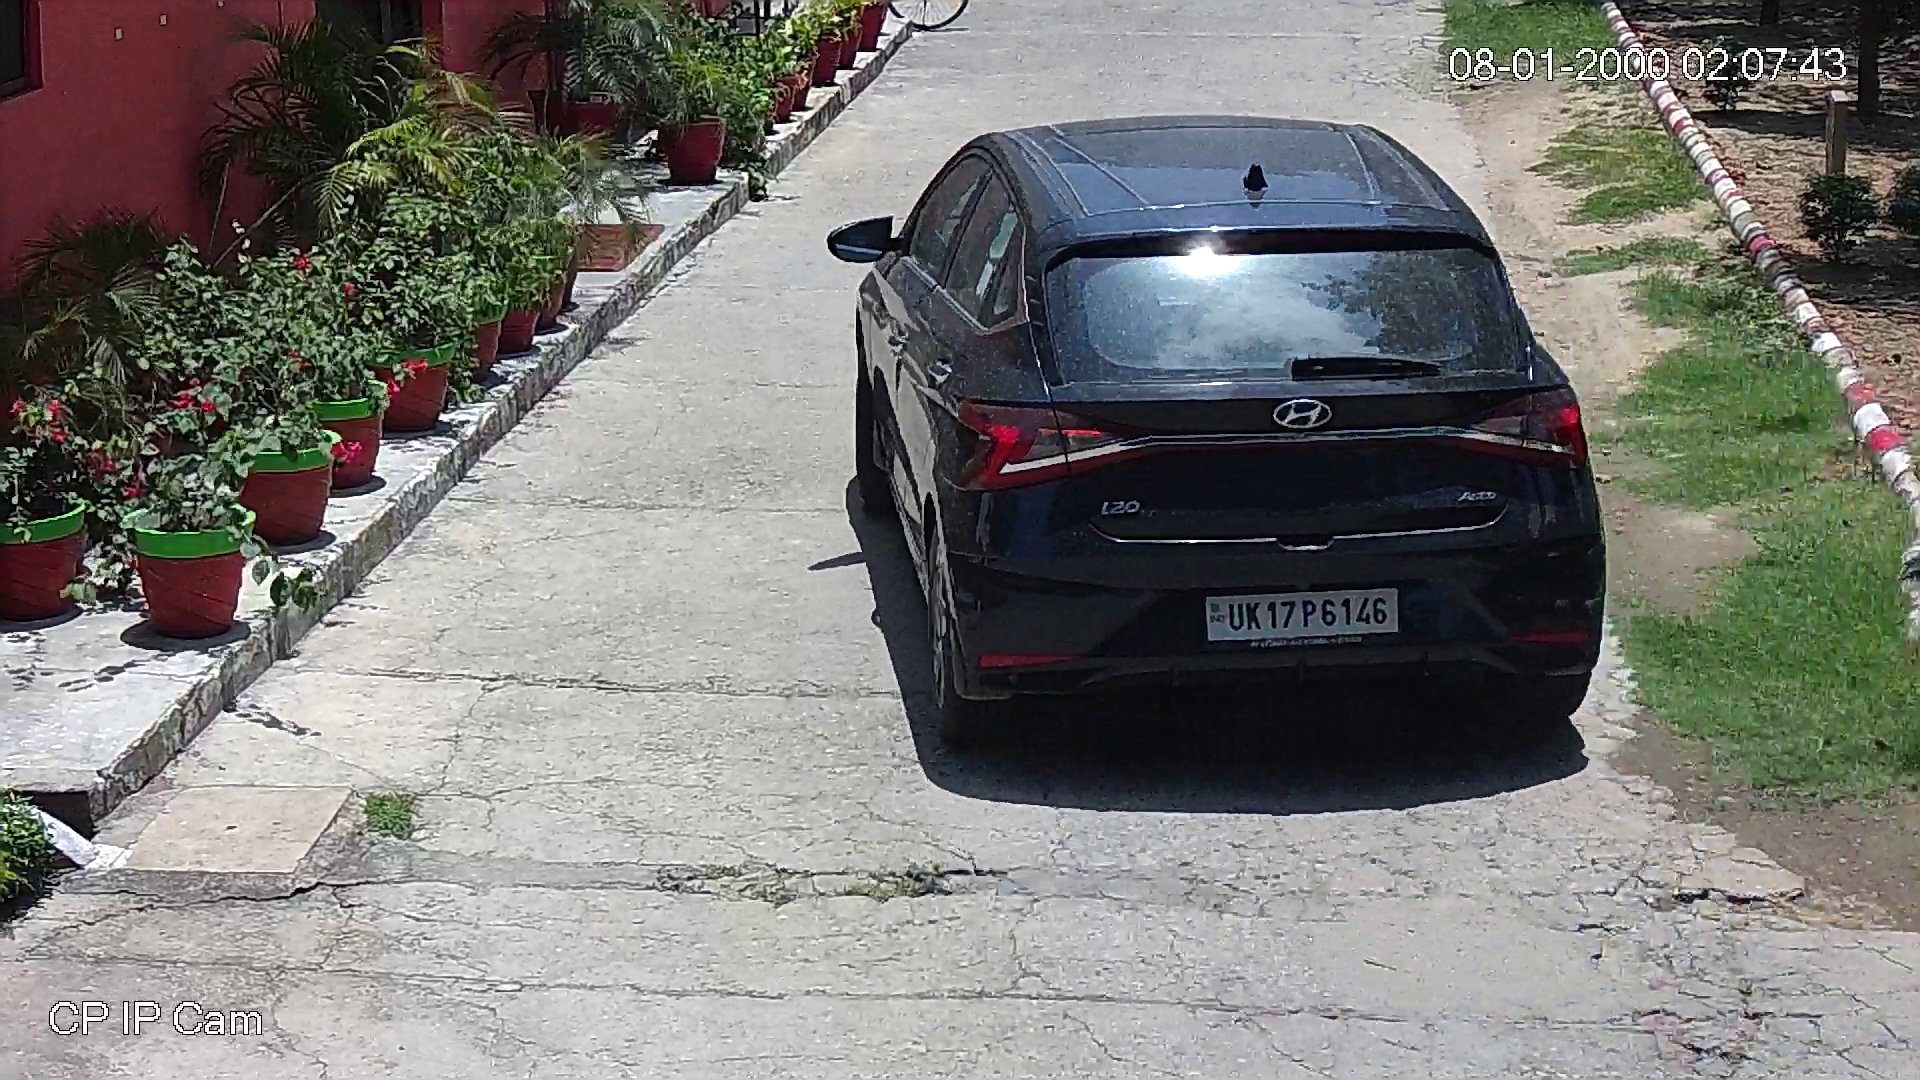plate: (1202, 580, 1404, 653)
